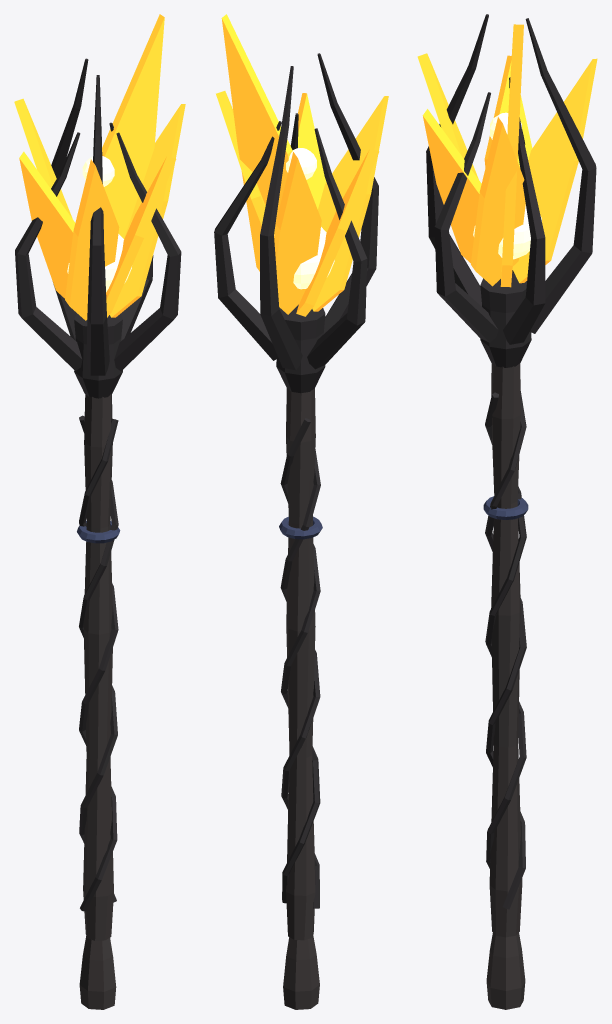
File: staff_duskblaze.glb
3 renders of one model, left to right at view 1: azimuth 30°, elevation 25°; view 2: azimuth 150°, elevation 25°; view 3: azimuth 270°, elevation 25°, orthographic. The views are drawn at different scales.
Parts seen in each view (by area): view 1: Dz_Shaft, Dz_Flame0, Dz_Tendril3, Dz_Flame3, Dz_Tendril4, Dz_Flame2, Dz_Tendril2, Dz_Flame5, Dz_Vine1, Dz_Flame4, Dz_Butt, Dz_Vine0 (+7 smaller); view 2: Dz_Shaft, Dz_Flame0, Dz_Flame1, Dz_Tendril1, Dz_Flame3, Dz_Tendril0, Dz_Tendril2, Dz_Tendril3, Dz_Vine0, Dz_Flame2, Dz_Neck, Dz_Butt (+6 smaller); view 3: Dz_Shaft, Dz_Flame1, Dz_Flame5, Dz_Tendril1, Dz_Tendril4, Dz_Flame4, Dz_Tendril0, Dz_Vine0, Dz_Tendril3, Dz_Flame0, Dz_Neck, Dz_Vine1 (+5 smaller).
Boxes of the visible parts, left/top/right/bottom form: Dz_Shaft: left=83, top=394, right=113, bottom=940; Dz_Flame0: left=102, top=14, right=164, bottom=238; Dz_Tendril3: left=86, top=75, right=109, bottom=375; Dz_Flame3: left=65, top=159, right=119, bottom=320; Dz_Tendril4: left=114, top=132, right=181, bottom=371; Dz_Flame2: left=19, top=151, right=75, bottom=298; Dz_Tendril2: left=15, top=132, right=82, bottom=370; Dz_Flame5: left=110, top=104, right=185, bottom=317; Dz_Vine1: left=79, top=418, right=118, bottom=911; Dz_Flame4: left=106, top=156, right=176, bottom=317; Dz_Butt: left=79, top=936, right=116, bottom=1009; Dz_Vine0: left=79, top=415, right=118, bottom=902; Dz_Shaft: left=286, top=388, right=315, bottom=940; Dz_Flame0: left=221, top=14, right=292, bottom=271; Dz_Flame1: left=274, top=152, right=321, bottom=314; Dz_Tendril1: left=260, top=66, right=302, bottom=370; Dz_Flame3: left=312, top=96, right=388, bottom=311; Dz_Tendril0: left=214, top=121, right=281, bottom=360; Dz_Tendril2: left=307, top=128, right=367, bottom=369; Dz_Tendril3: left=317, top=53, right=378, bottom=333; Dz_Vine0: left=280, top=418, right=320, bottom=903; Dz_Flame2: left=296, top=148, right=379, bottom=316; Dz_Neck: left=276, top=304, right=325, bottom=393; Dz_Butt: left=283, top=935, right=319, bottom=1009; Dz_Shaft: left=489, top=363, right=522, bottom=937; Dz_Flame1: left=512, top=58, right=597, bottom=283; Dz_Flame5: left=471, top=117, right=525, bottom=286; Dz_Tendril1: left=525, top=18, right=596, bottom=333; Dz_Tendril4: left=434, top=92, right=498, bottom=342; Dz_Flame4: left=422, top=109, right=481, bottom=263; Dz_Tendril0: left=503, top=117, right=545, bottom=344; Dz_Vine0: left=485, top=391, right=526, bottom=909; Dz_Tendril3: left=426, top=14, right=488, bottom=306; Dz_Flame0: left=500, top=24, right=523, bottom=287; Dz_Neck: left=480, top=273, right=531, bottom=367; Dz_Vine1: left=485, top=392, right=526, bottom=868.
Size of the model in its own units: 0.4595 by 2.58 by 0.4153.
